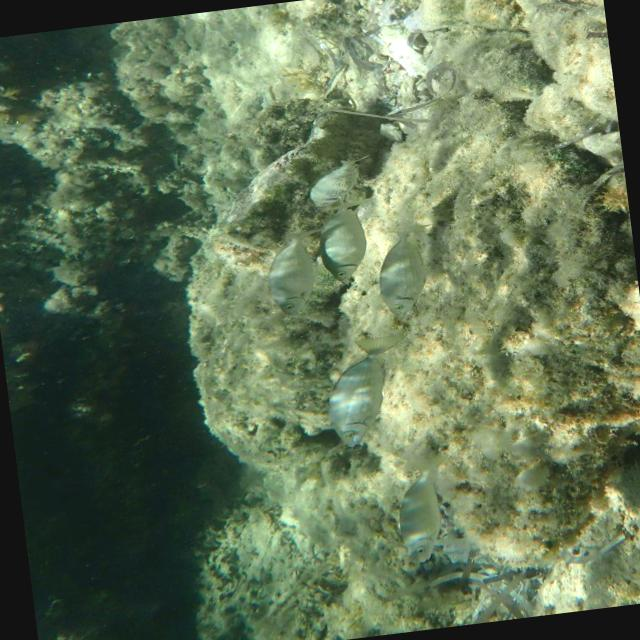Sokar Baligi: (314, 328, 432, 452), (379, 440, 463, 570), (246, 216, 334, 328), (362, 208, 440, 326)
